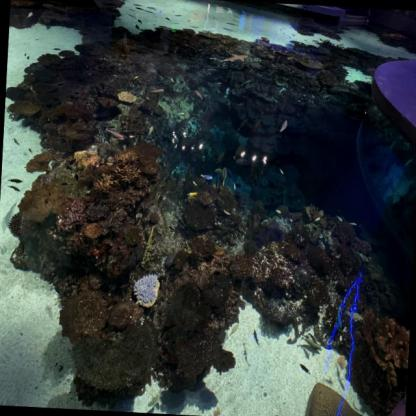fish: (104, 126, 127, 142), (301, 338, 323, 352), (236, 116, 251, 132), (227, 321, 240, 339), (299, 361, 313, 376), (347, 310, 364, 322), (337, 305, 345, 329), (356, 250, 370, 263), (279, 117, 289, 135), (252, 117, 262, 135), (220, 166, 228, 186), (215, 150, 225, 165), (252, 328, 260, 346), (242, 348, 250, 366), (148, 88, 166, 96), (8, 176, 23, 185), (194, 88, 204, 101), (200, 172, 213, 182), (250, 164, 258, 180), (7, 185, 22, 193), (186, 189, 199, 198), (235, 144, 243, 158), (336, 363, 342, 381), (148, 125, 156, 138), (308, 332, 318, 342), (324, 377, 336, 385), (334, 214, 344, 223), (348, 219, 358, 228), (12, 138, 21, 147), (274, 207, 283, 216), (338, 380, 346, 390), (222, 208, 232, 216), (314, 215, 322, 224), (214, 167, 223, 175), (28, 147, 34, 156), (279, 168, 285, 176), (128, 134, 136, 140), (192, 180, 198, 187), (134, 74, 140, 81), (171, 77, 176, 84), (287, 218, 294, 223), (178, 112, 186, 116), (233, 182, 236, 191), (145, 96, 150, 100)
shark: (219, 52, 247, 65)
